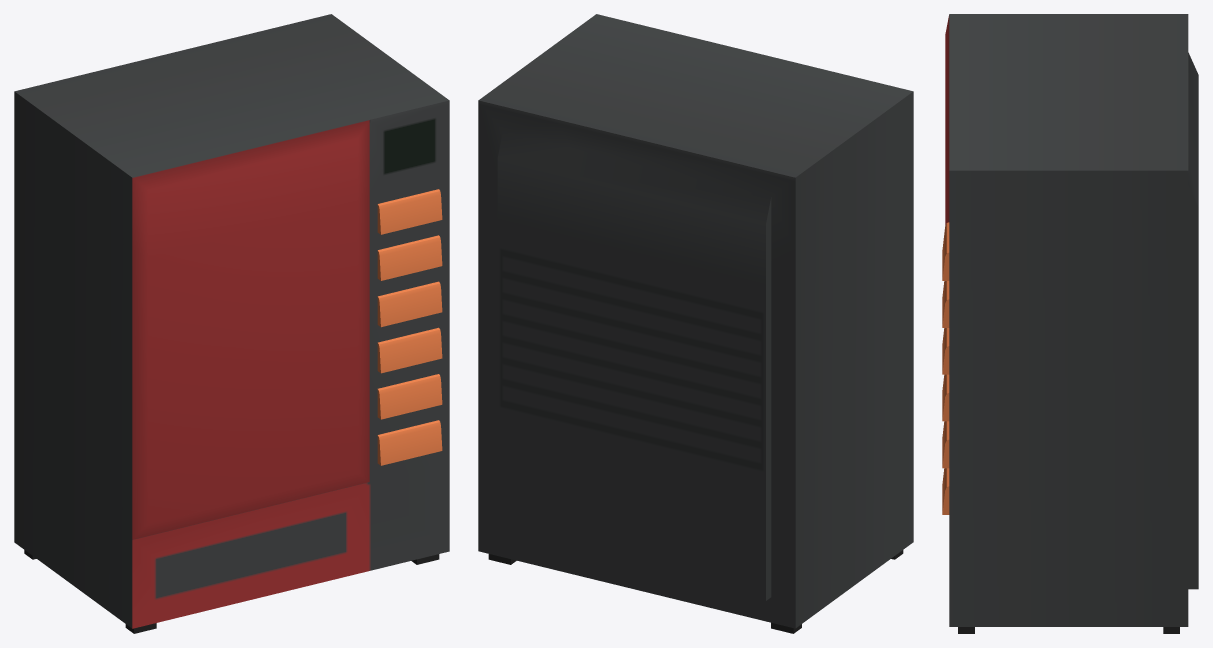
Rendered from Vending machine.fbx.
3 views of the same model, side by side, from view 1: azimuth 30°, elevation 25°; view 2: azimuth 150°, elevation 25°; view 3: azimuth 270°, elevation 25° (orthographic).
Parts seen in each view (by area): view 1: Cube; view 2: Cube; view 3: Cube.
Boxes of the visible parts, bbox=[...] form: Cube: bbox=[14, 14, 449, 633]; Cube: bbox=[478, 14, 913, 633]; Cube: bbox=[942, 14, 1198, 633].
Size of the model in its own units: 2.87 by 3.99 by 1.99.
1 material, 1 textured.
